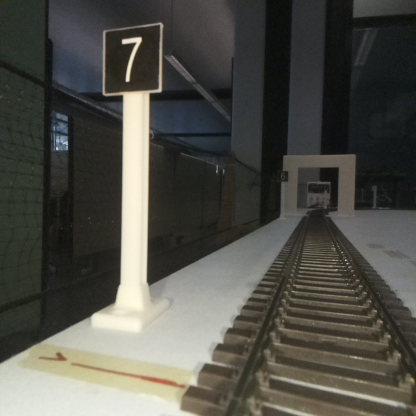black-info-6: (277, 170, 288, 219)
black-info-7: (104, 30, 159, 325)
